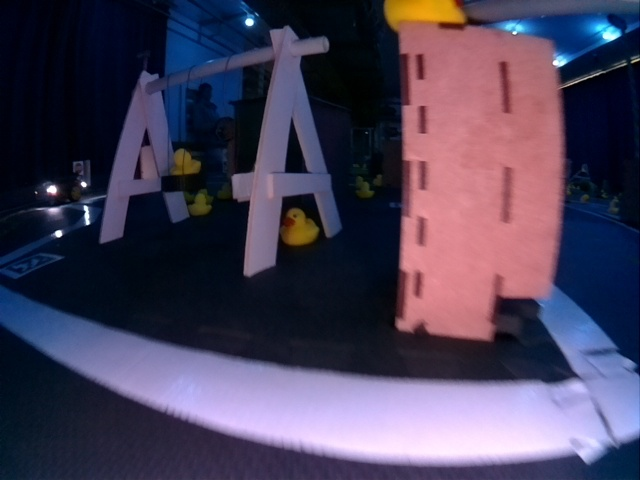Duckie: (283, 210, 317, 246), (172, 151, 198, 176), (189, 195, 209, 213), (359, 183, 373, 196)
Duckiebot: (33, 173, 86, 205)
QR code: (5, 253, 58, 280)
